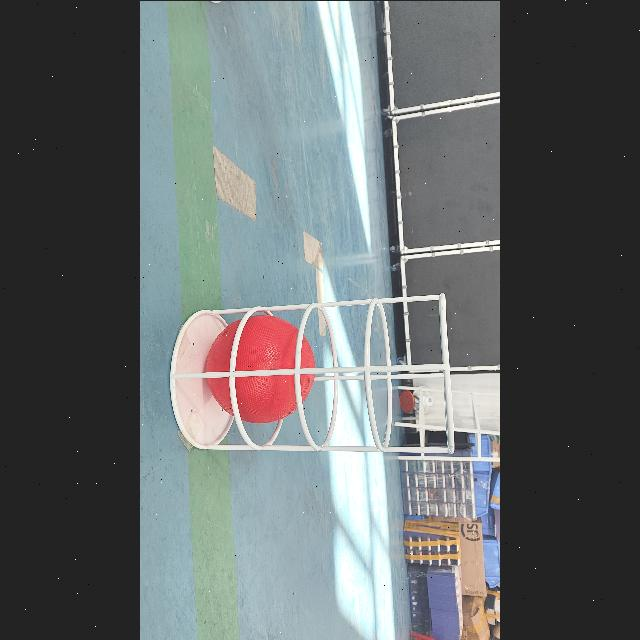R: (206, 314, 316, 422)
S: (162, 288, 460, 468)
